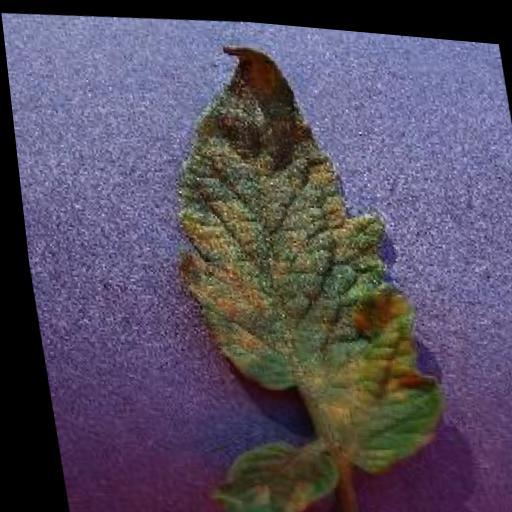Leaf Mold: (133, 23, 451, 512)
